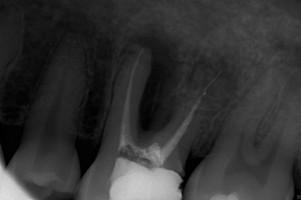Dental Caries: (119, 27, 244, 136)
Furcation Involvement: (265, 30, 301, 94)
